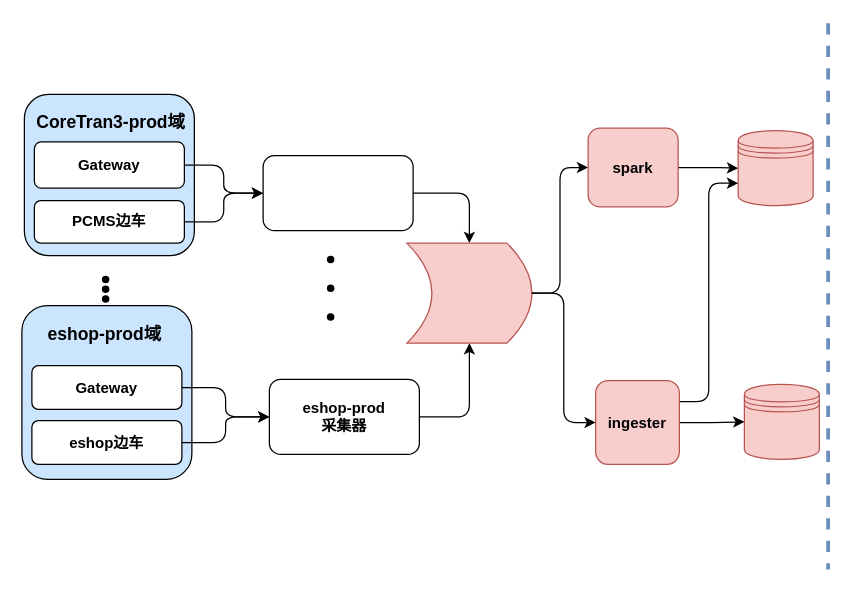
The diagram is 853 pixels wide and 594 high, and some of its shapes have lost their labels. The centre of each missing label's shape, as x and y in pixels:
CoreTran3-prod 采集器: pixel 337 192
ES: pixel 775 167
kafka 单个topic: pixel 469 292
Mongo: pixel 781 421
